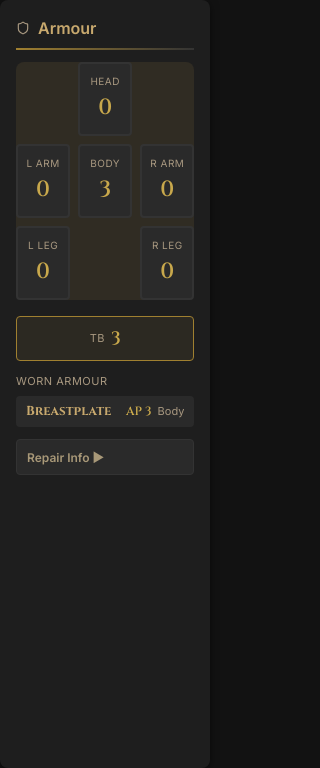
Test: ArmourMap AP Tooltip Integration › shows "No armour covers this location" when no armour covers the clicked location
# Click the Head AP cell (no armour covers head)
Click the button named "Head AP 0".
click(105, 108)  # box [98,91,112,124]
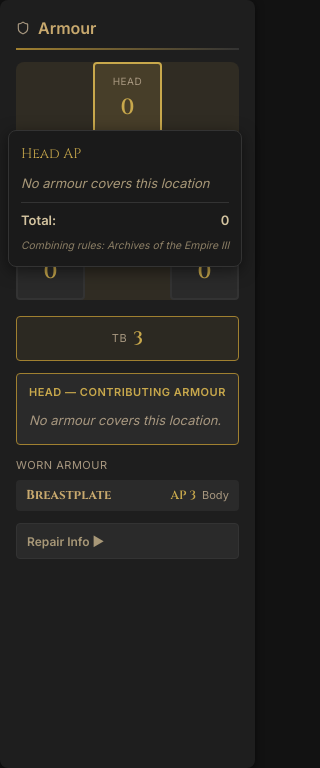
Expected: the tooltip is shown, [8,130,242,267]
Expected: the tooltip shows "No armour covers this location", [21,175,209,191]
Expected: the tooltip shows "Total:", [21,212,56,228]
